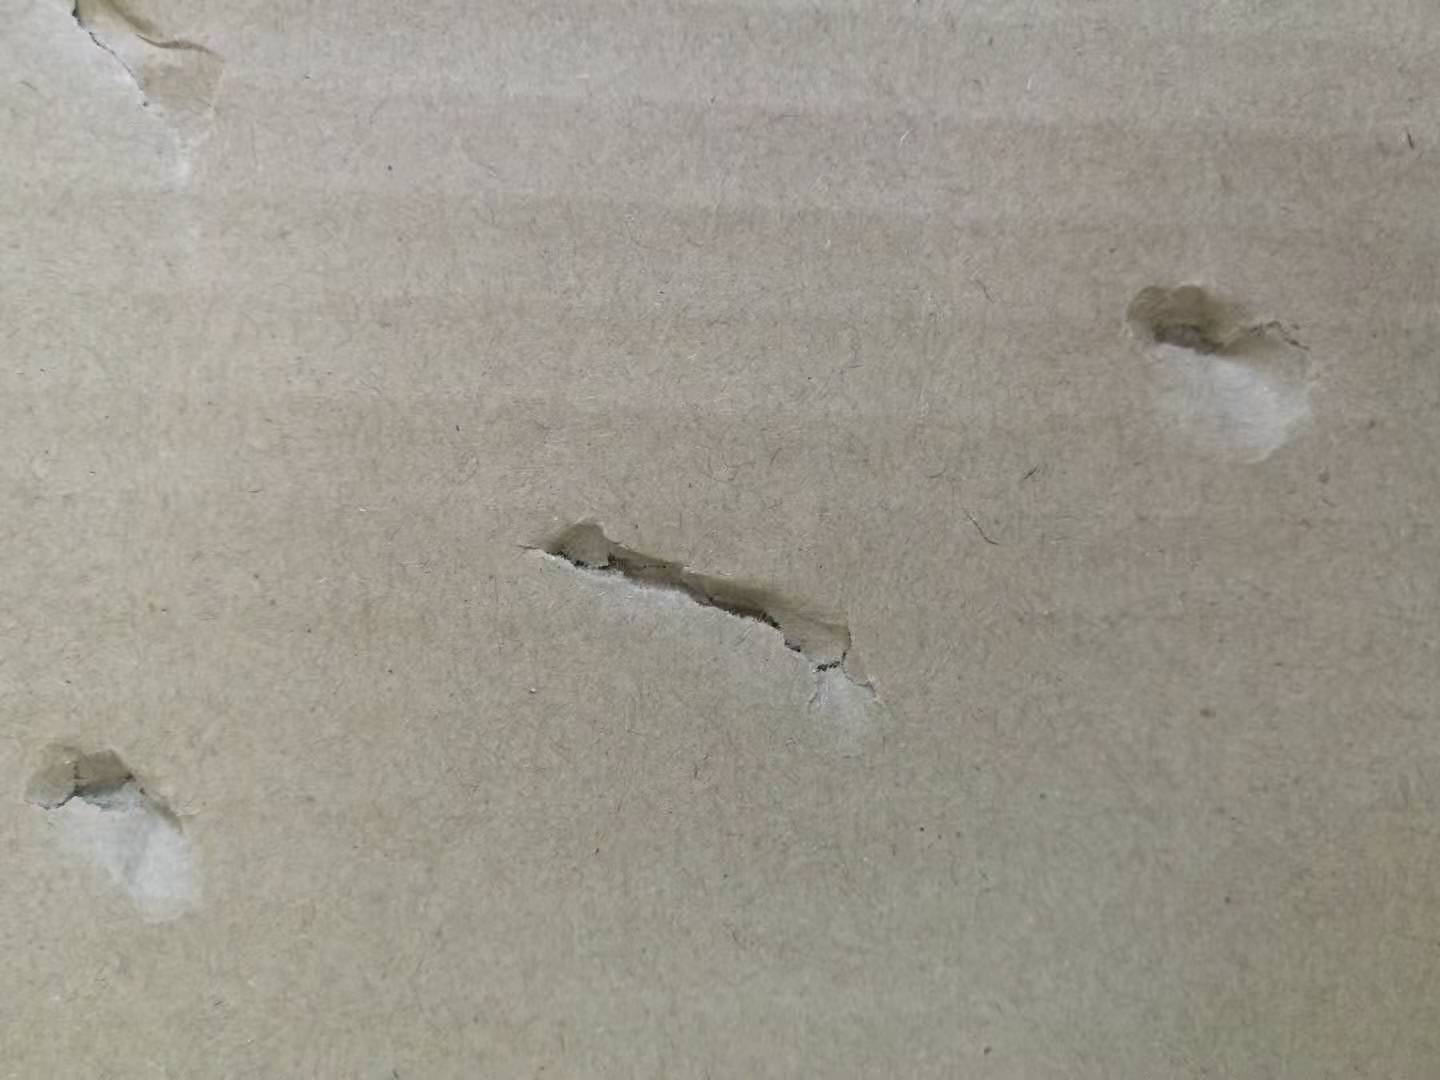defect: (495, 475, 927, 775), (1077, 227, 1364, 509), (8, 706, 249, 952), (37, 1, 264, 236)
